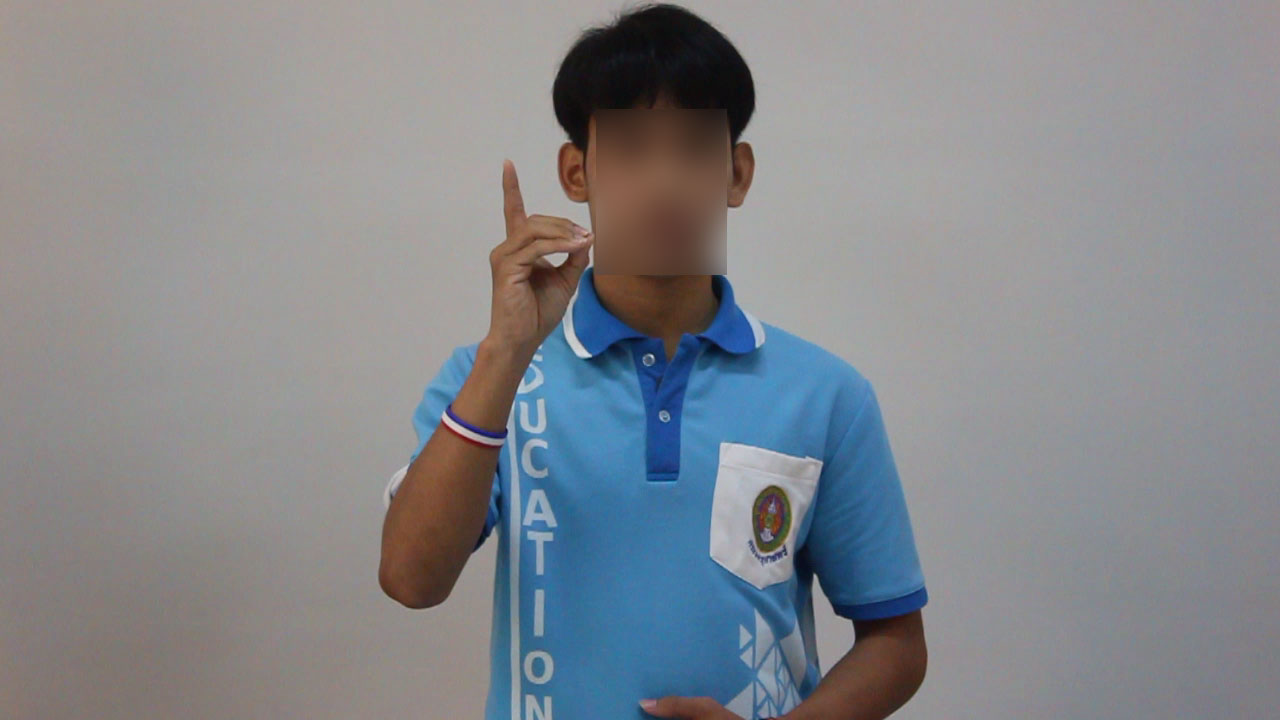dor: (472, 151, 600, 340)
